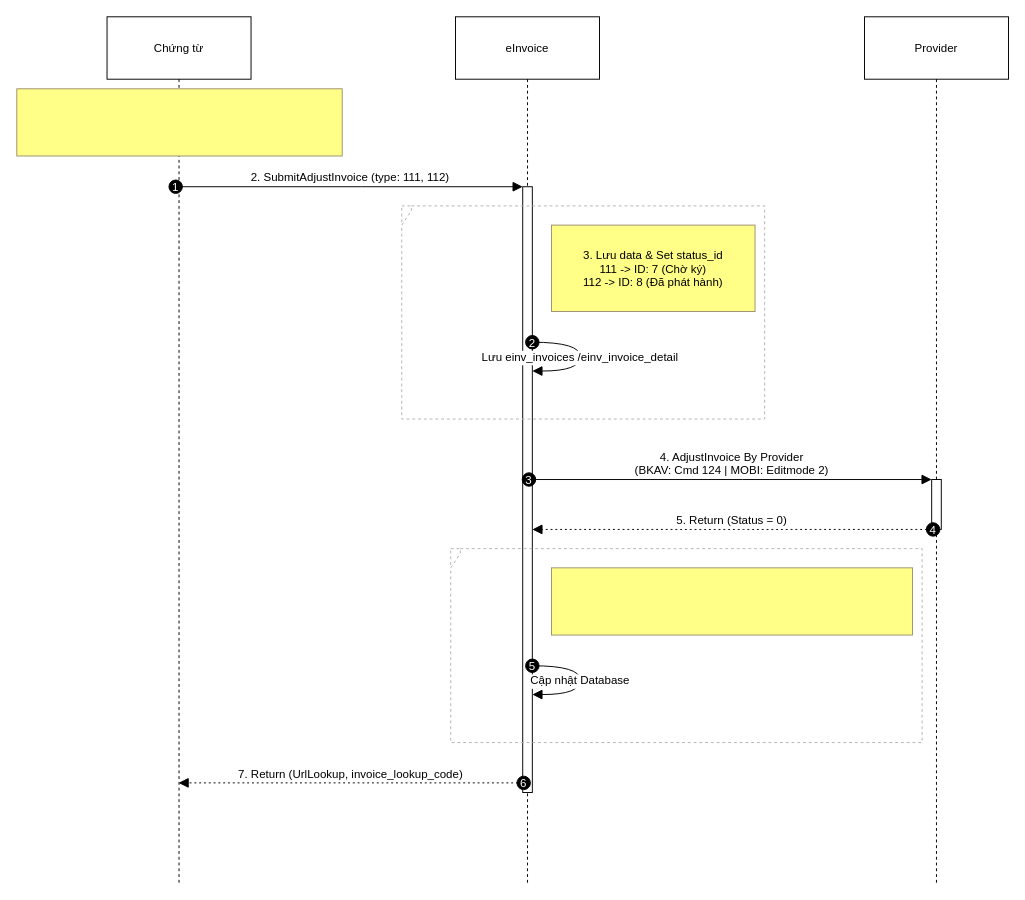
Image size: 1025x900. Some labels were removed from this diagram. Here are the shapes that lost their labels. From the top down, the centre of each, then its label:
At point (179, 122): "1. Tạo bản tin điều chỉnh (PartnerID, OriginalInvoiceIdentify, IsIncrease...)".
At point (731, 601): "6. Lưu data định danh mới (invoice_no, series, invoice_lookup_code, provider_id)".
